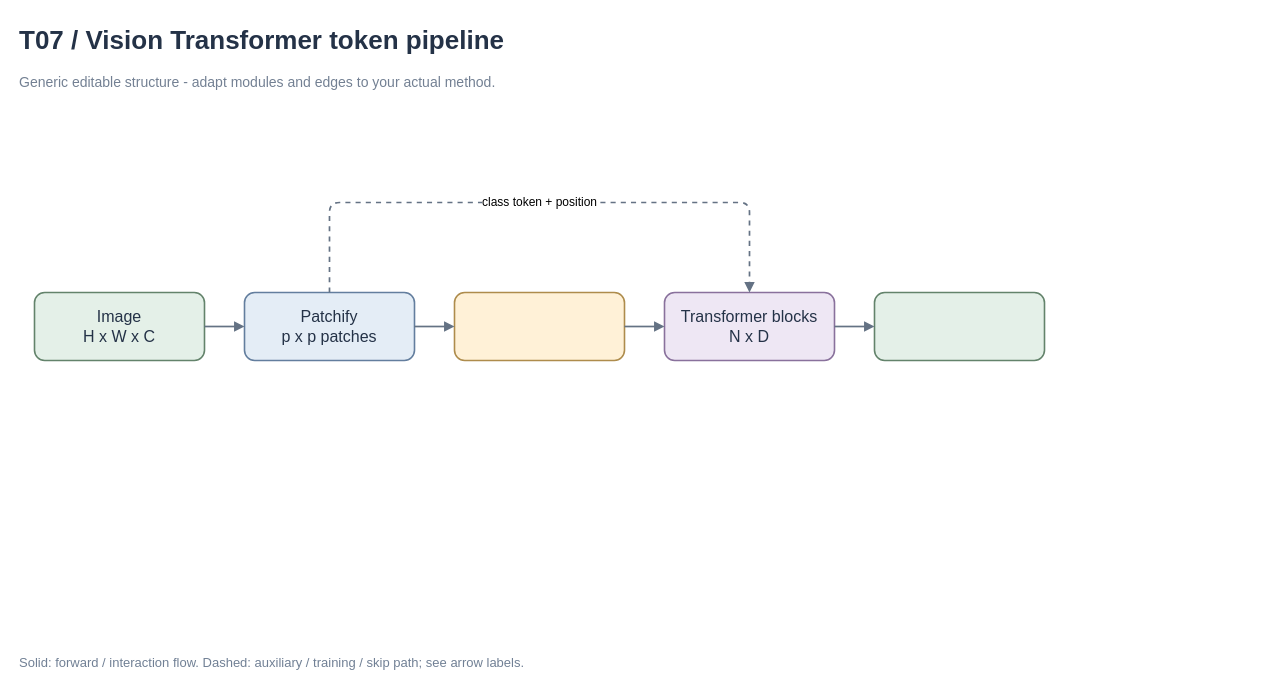
Some shapes in this 1264 by 695 pixel diagram are drawn without their labels. The shapes that lost their labels are listed below. From the top down, each one's centre as x and y in pixels, then its label:
At (539,326): "Patch embedding N x D + position".
At (959,326): "CLS / pooled head".
